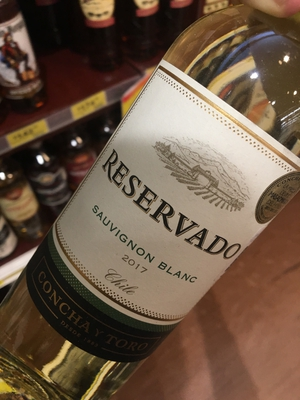reservado sauvignon blanc: (39, 41, 299, 373)
